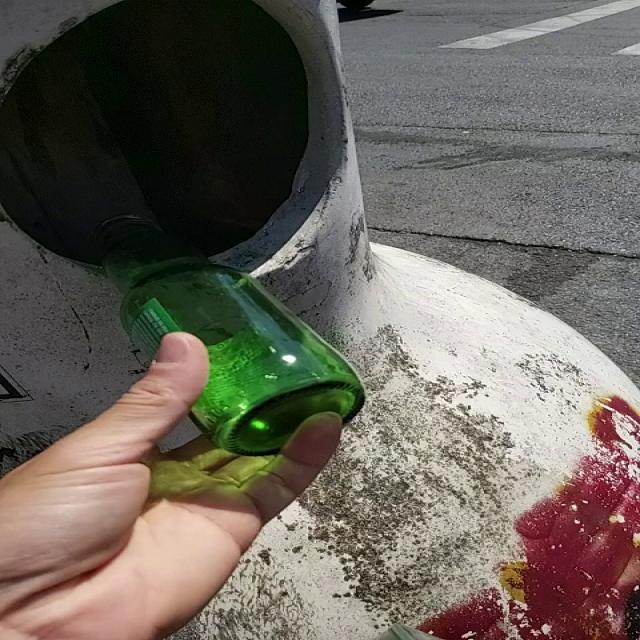Glass: (97, 216, 365, 456)
